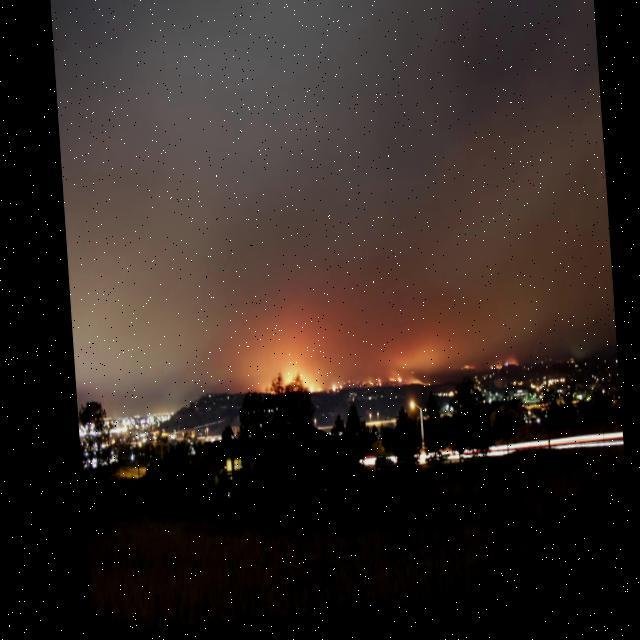Fire: (277, 369, 304, 396), (304, 388, 316, 401), (362, 384, 376, 394), (326, 389, 337, 400), (384, 384, 396, 391), (458, 372, 464, 379)
